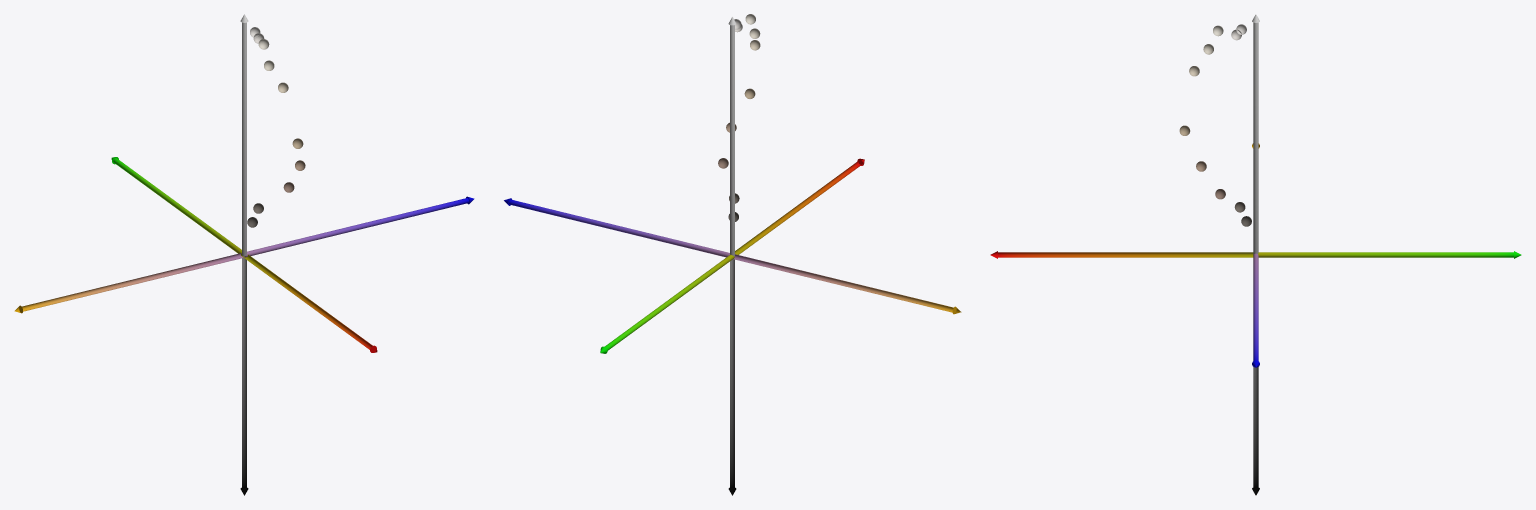
Rendered from two_spheres_combined.glb.
The picture shows the model from 3 angles, left to right: view 1: azimuth 30°, elevation 25°; view 2: azimuth 150°, elevation 25°; view 3: azimuth 270°, elevation 25°; orthographic projection.
Visible parts, largest first — view 1: world; view 2: world; view 3: world.
Part boxes in pixels (left/top/right/bottom): world: left=14, top=14, right=474, bottom=495; world: left=504, top=14, right=961, bottom=495; world: left=990, top=14, right=1521, bottom=495.
Bounding box in the file's own units: 200 × 200 × 200.
